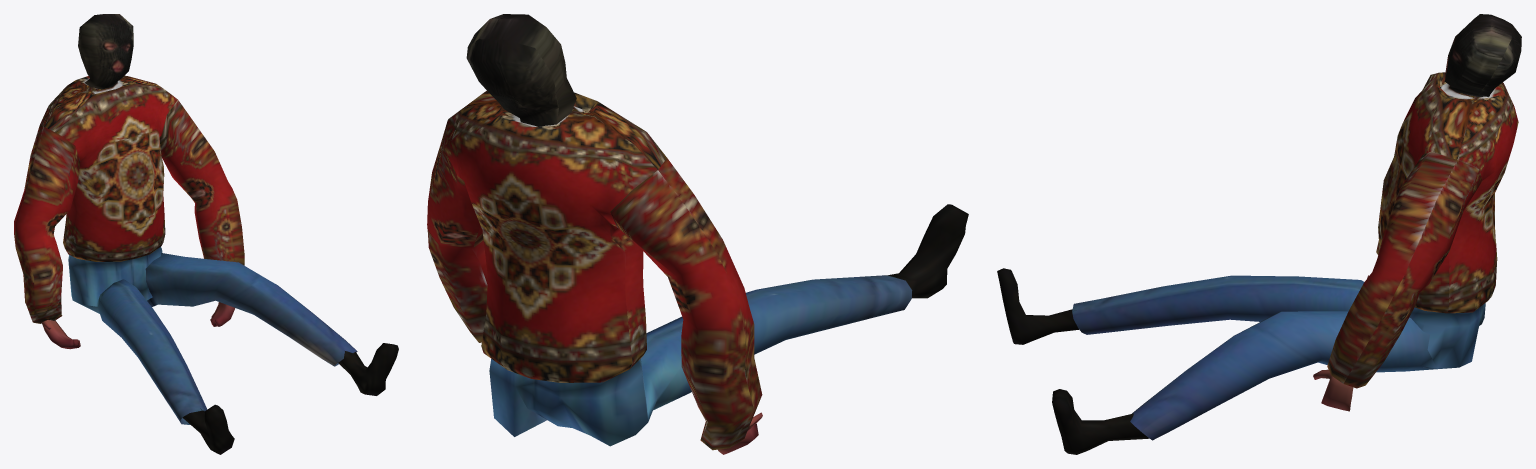
File: dead_krutoy.fbx
3 renders of one model, left to right at view 1: azimuth 30°, elevation 25°; view 2: azimuth 150°, elevation 25°; view 3: azimuth 270°, elevation 25°, orthographic. The views are drawn at different scales.
Visible parts, largest first — view 1: krutoy; view 2: krutoy; view 3: krutoy.
Part boxes in pixels (x1,y1,x2,y2): krutoy: (14, 14, 398, 454); krutoy: (427, 14, 968, 454); krutoy: (997, 14, 1521, 454).
Size of the model in its own units: 57.24 by 65.82 by 84.57.
